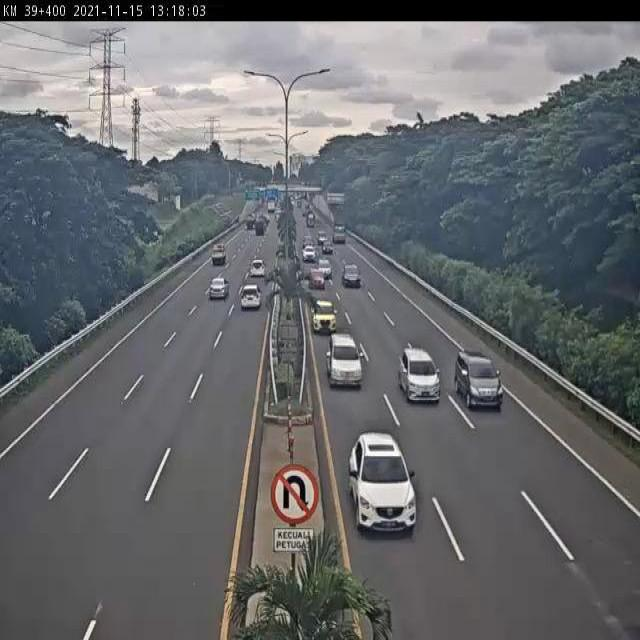car: (349, 432, 417, 532), (454, 346, 507, 414), (396, 347, 443, 405), (325, 329, 364, 391), (310, 298, 338, 334), (240, 281, 263, 311), (206, 274, 230, 302)
